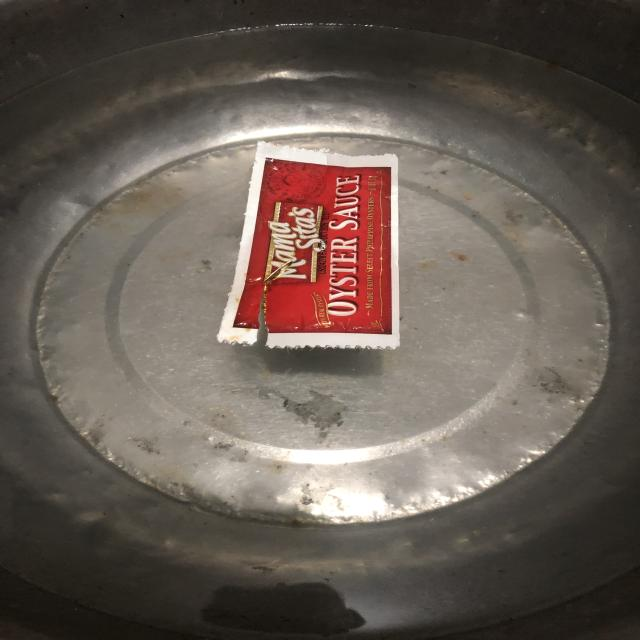Plastic Wrapper: (190, 122, 436, 368)
